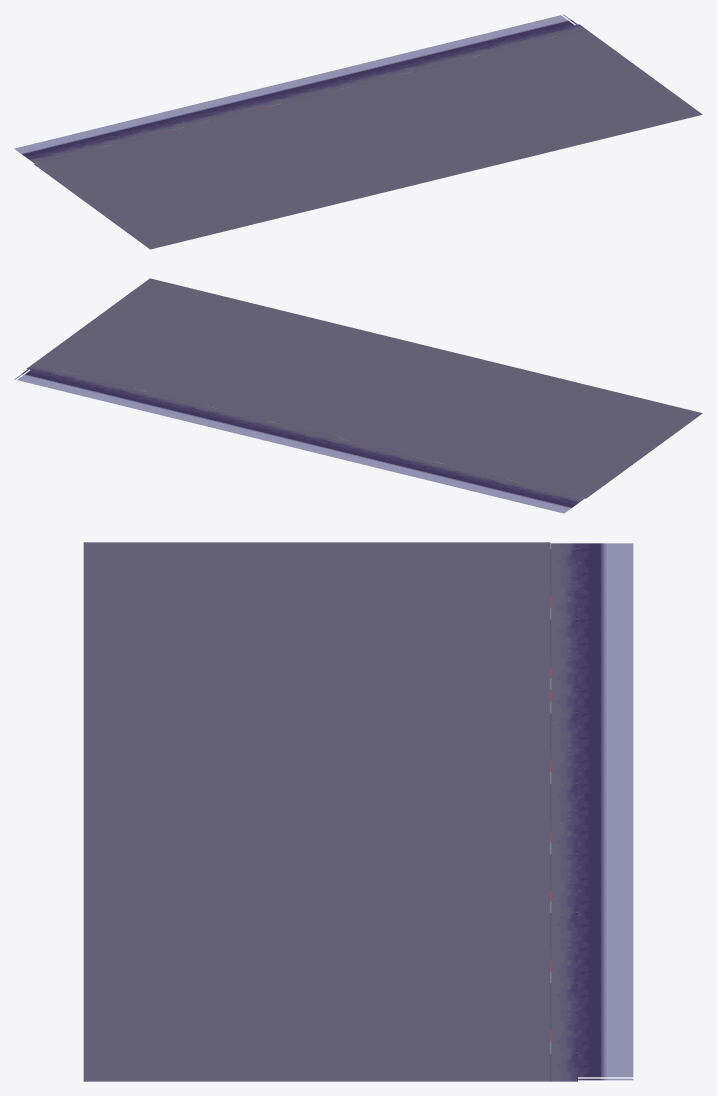
The model's file is BottomMiddleRoad.fbx.
3 renders of one model, top to bottom at view 1: azimuth 30°, elevation 25°; view 2: azimuth 150°, elevation 25°; view 3: azimuth 270°, elevation 25°, orthographic. The views are drawn at different scales.
Visible parts, largest first — view 1: Cube.002; view 2: Cube.002; view 3: Cube.002.
Boxes of the visible parts, x1,y1,x2,y2 form: Cube.002: [14, 14, 702, 249]; Cube.002: [14, 278, 702, 513]; Cube.002: [83, 542, 633, 1081].
Bounding box in the file's own units: 1149 × 8.07e-05 × 495.
